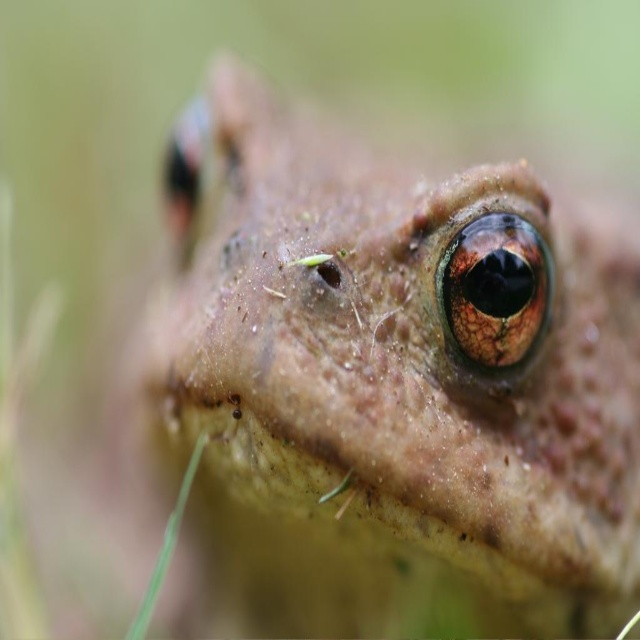Frog: (120, 53, 640, 640)
